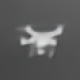plane: (15, 23, 66, 59)
